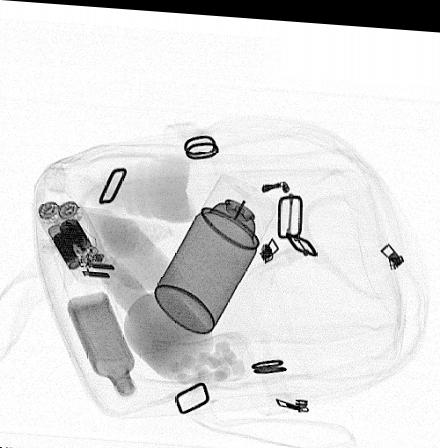Sprayer: (153, 170, 279, 333)
